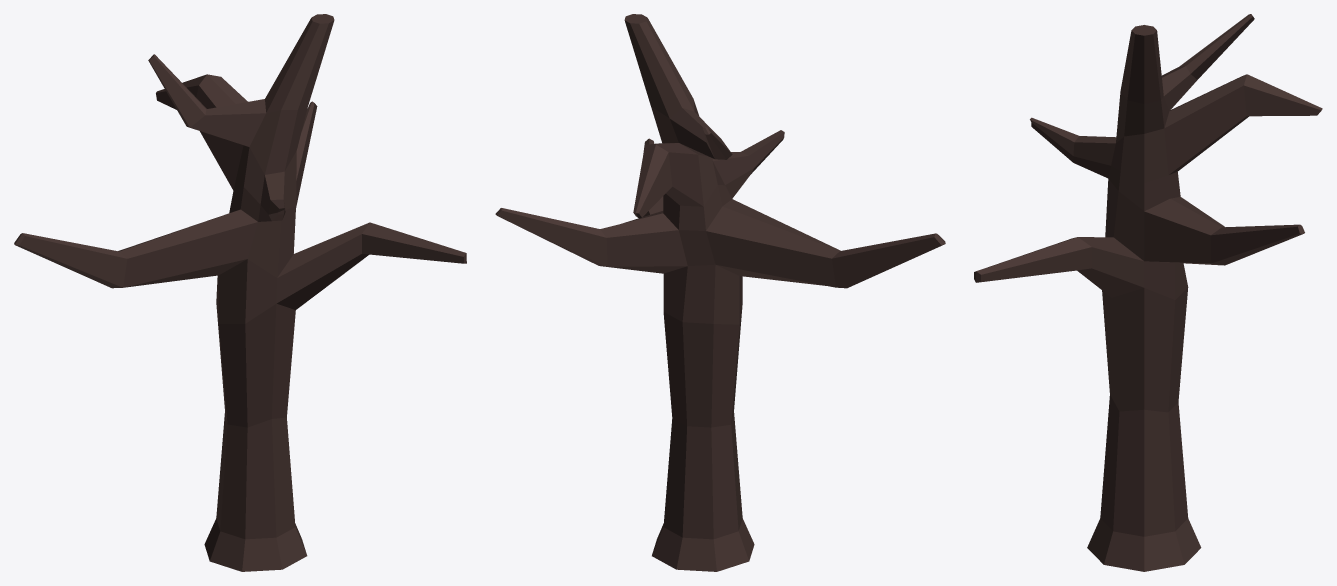
Rendered from leave tree autumn.fbx.
3 views of the same model, side by side, from view 1: azimuth 30°, elevation 25°; view 2: azimuth 150°, elevation 25°; view 3: azimuth 270°, elevation 25° (orthographic). The views are drawn at different scales.
Parts seen in each view (by area): view 1: leaves tree Autumn; view 2: leaves tree Autumn; view 3: leaves tree Autumn.
Part boxes in pixels (x1,y1,x2,y2): leaves tree Autumn: (14,14,466,571); leaves tree Autumn: (495,14,945,571); leaves tree Autumn: (974,14,1322,571).
Size of the model in its own units: 455 by 595 by 340.
